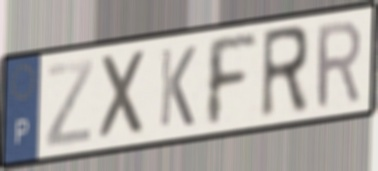F: (203, 31, 260, 130)
K: (157, 43, 198, 130)
R: (258, 22, 311, 124), (314, 16, 364, 113)
X: (98, 45, 150, 145)
Z: (43, 56, 95, 150)
